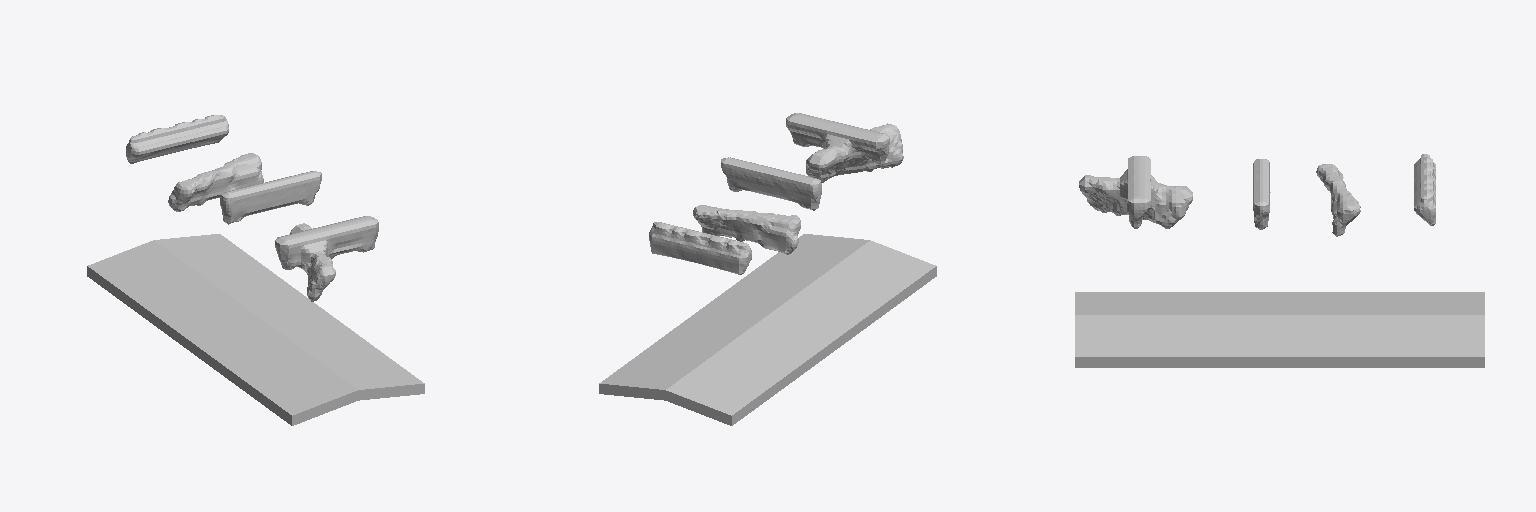
File: Watersim_000008.obj
The picture shows the model from 3 angles: view 1: azimuth 30°, elevation 25°; view 2: azimuth 150°, elevation 25°; view 3: azimuth 270°, elevation 25°; orthographic projection.
Visible parts, largest first — view 1: Straße_Cube.007, Domain_Cube.006; view 2: Straße_Cube.007, Domain_Cube.006; view 3: Straße_Cube.007, Domain_Cube.006.
Boxes of the visible parts, <box> form: Straße_Cube.007: <box>87,234,424,425</box>; Domain_Cube.006: <box>126,115,378,301</box>; Straße_Cube.007: <box>599,234,936,425</box>; Domain_Cube.006: <box>649,113,903,274</box>; Straße_Cube.007: <box>1075,292,1484,367</box>; Domain_Cube.006: <box>1079,154,1435,236</box>.
Size of the model in its own units: 2.26 by 2.59 by 6.06.